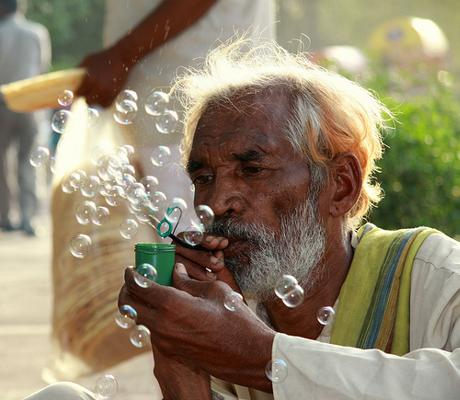person: (114, 39, 460, 400)
